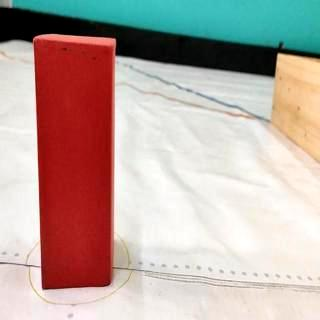redbox: (32, 32, 116, 291)
